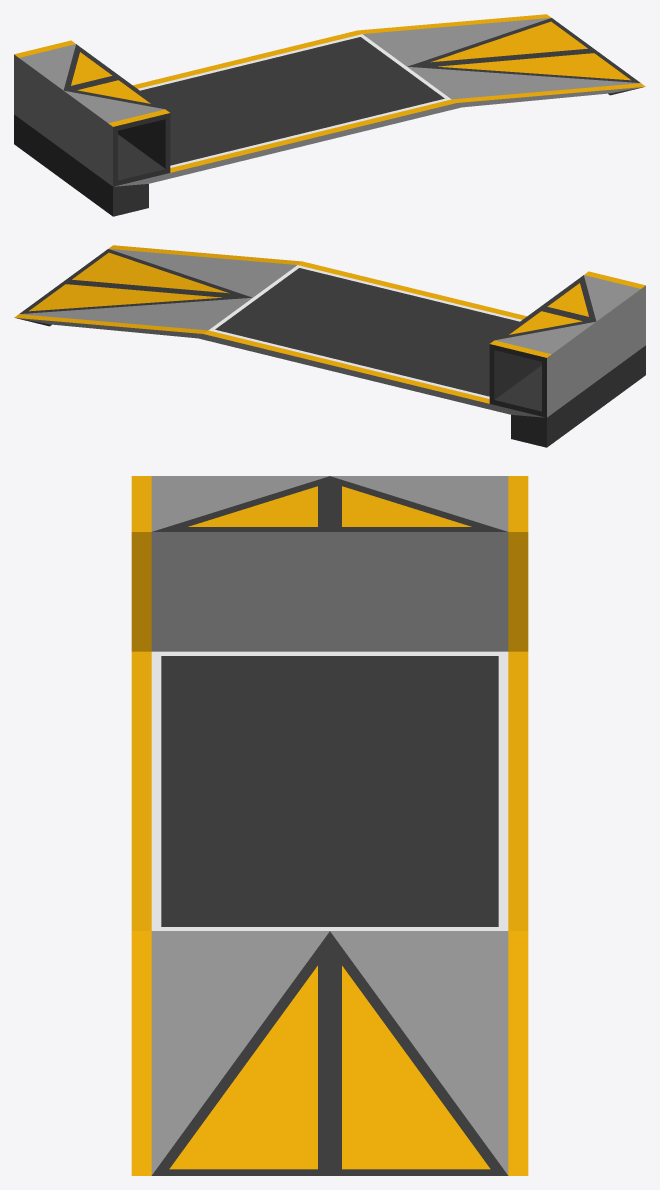
File: mov1.obj
3 views of the same model, one above another, from view 1: azimuth 30°, elevation 25°; view 2: azimuth 150°, elevation 25°; view 3: azimuth 270°, elevation 25° (orthographic). The views are drawn at different scales.
Parts seen in each view (by area): view 1: Cube1; view 2: Cube1; view 3: Cube1.
Boxes of the visible parts, x1,y1,x2,y2 form: Cube1: [14, 14, 645, 216]; Cube1: [14, 245, 645, 447]; Cube1: [131, 476, 528, 1175].
Size of the model in its own units: 18.62 by 3 by 6.
